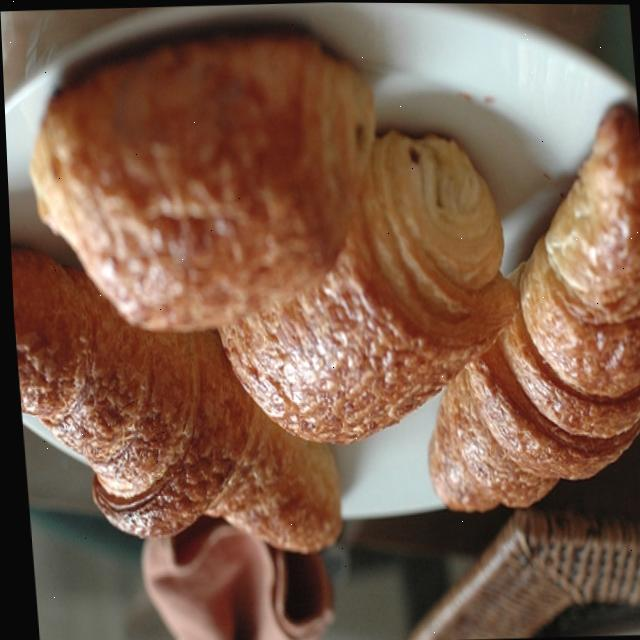面包点心: (0, 0, 640, 607)
